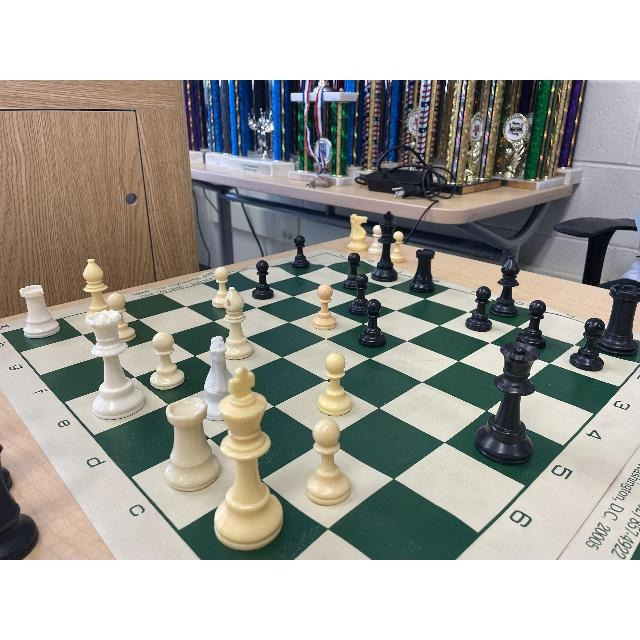black-bishop: (599, 280, 639, 360), (411, 250, 437, 294)
black-king: (372, 210, 398, 283)
black-pawn: (569, 318, 607, 371), (517, 298, 548, 348), (358, 298, 387, 348), (465, 285, 492, 335), (251, 260, 274, 300), (291, 235, 311, 270), (343, 252, 362, 288)
black-queen: (477, 339, 543, 463)
black-rook: (493, 255, 519, 319)
white-bishop: (222, 285, 260, 360), (79, 252, 112, 323)
white-king: (215, 367, 283, 551)
white-knight: (204, 336, 238, 424)
white-pawn: (308, 421, 350, 505), (149, 331, 187, 391), (317, 353, 353, 415), (110, 296, 136, 343), (312, 285, 338, 331), (213, 267, 232, 309)
white-queen: (88, 313, 143, 418)
white-rook: (165, 397, 220, 493), (20, 283, 60, 340)
